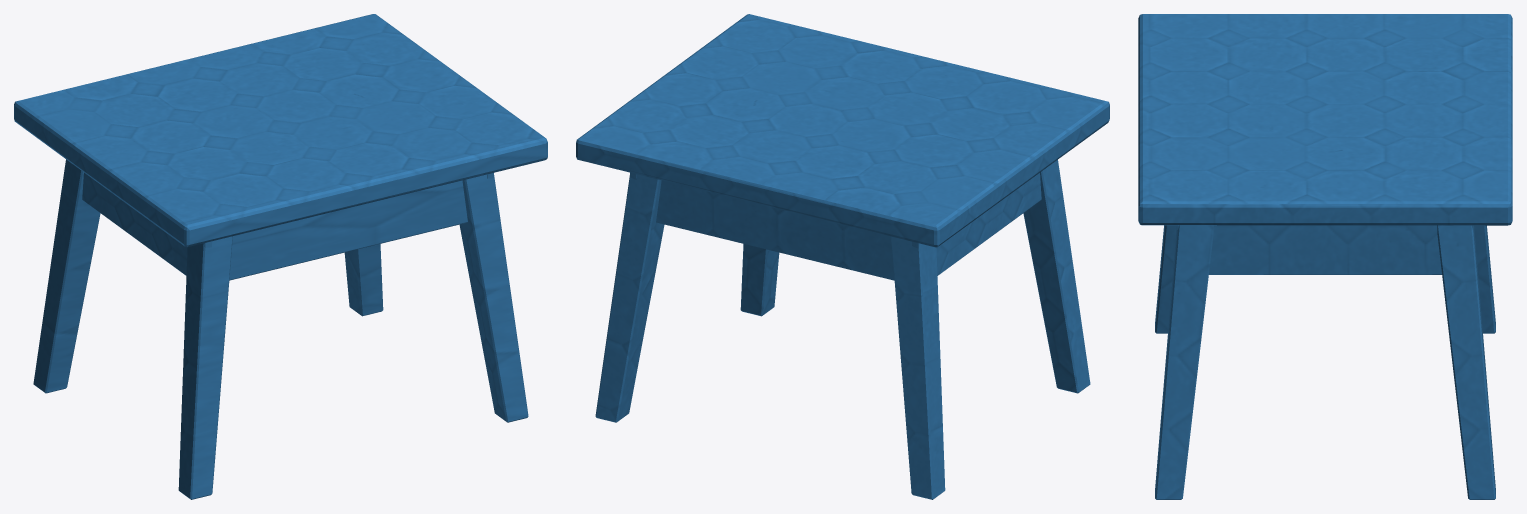
The model's file is ban_nhua_lod1.glb.
3 views of the same model, side by side, from view 1: azimuth 30°, elevation 25°; view 2: azimuth 150°, elevation 25°; view 3: azimuth 270°, elevation 25° (orthographic). The views are drawn at different scales.
Parts seen in each view (by area): view 1: table; view 2: table; view 3: table.
Part boxes in pixels (left/top/right/bottom): table: left=14, top=14, right=547, bottom=499; table: left=576, top=14, right=1109, bottom=499; table: left=1138, top=14, right=1512, bottom=499.
Bounding box in the file's own units: 0.58 × 0.43 × 0.48.
Materials: 1 (1 with a texture image).
